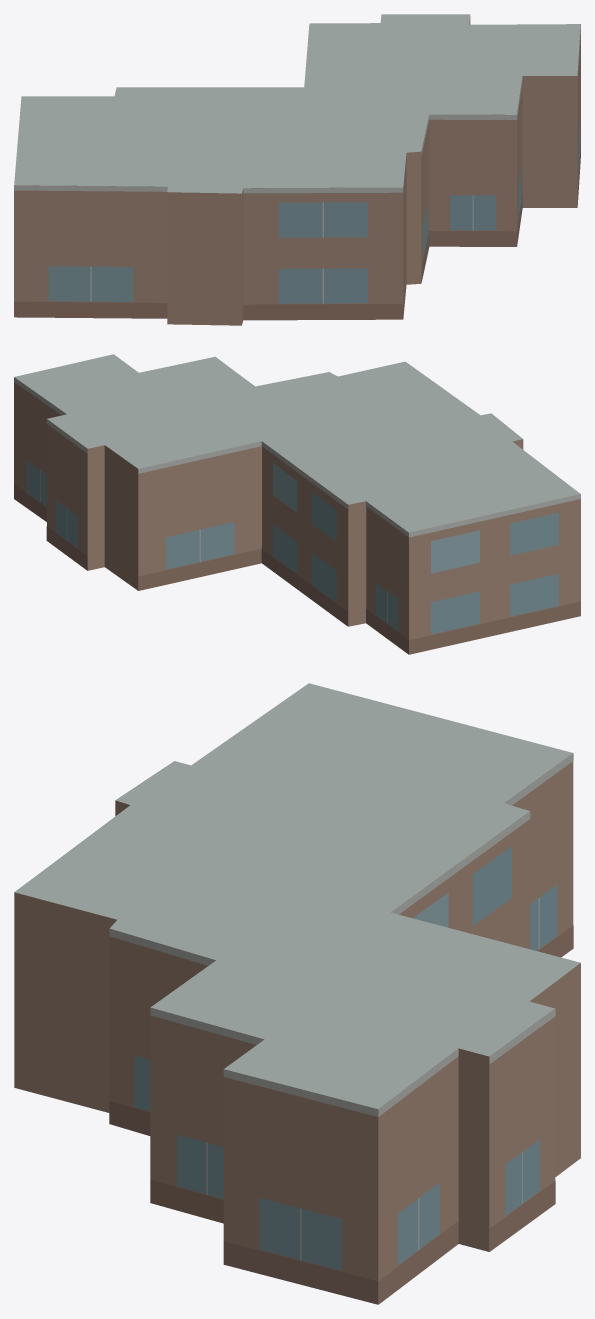
The model's file is survey-upis-32924689.glb.
3 views of the same model, one above another, from view 1: azimuth 30°, elevation 25°; view 2: azimuth 150°, elevation 25°; view 3: azimuth 270°, elevation 25° (orthographic). The views are drawn at different scales.
Visible parts, largest first — view 1: survey-upis-32924689.tmp; view 2: survey-upis-32924689.tmp; view 3: survey-upis-32924689.tmp.
Part boxes in pixels (<box>): survey-upis-32924689.tmp: <box>14,14,580,325</box>; survey-upis-32924689.tmp: <box>14,354,580,654</box>; survey-upis-32924689.tmp: <box>14,683,580,1304</box>.
Bounding box in the file's own units: 28.52 × 6.1 × 16.04.
